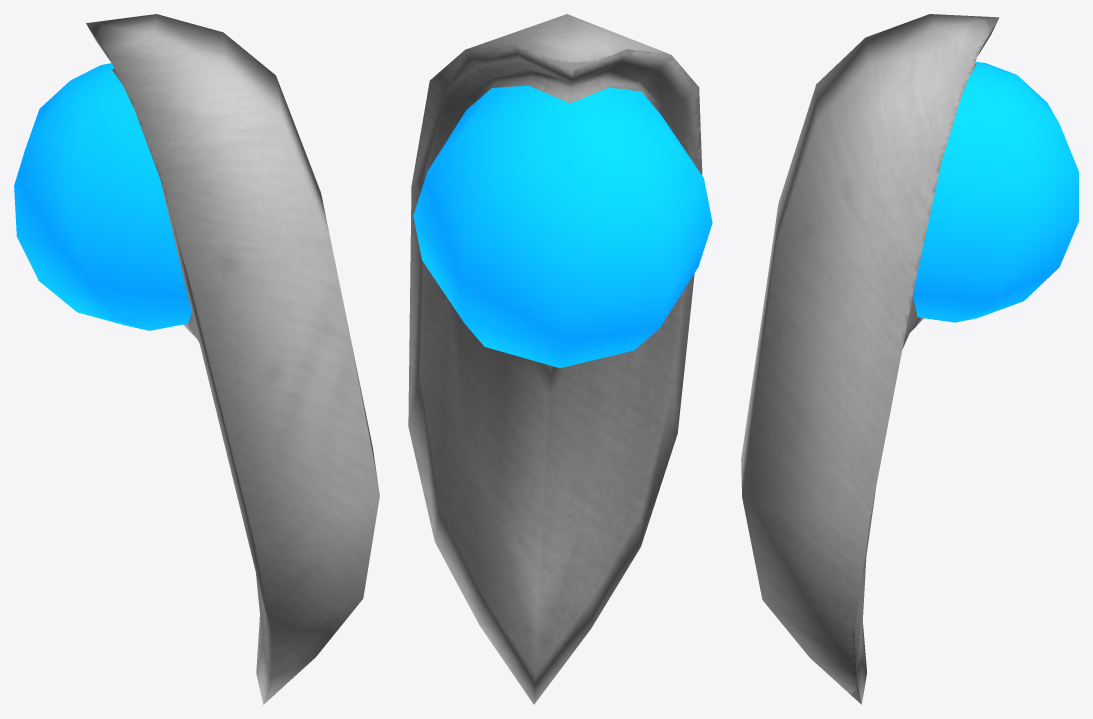
The model's file is ElipPata3.fbx.
3 renders of one model, left to right at view 1: azimuth 30°, elevation 25°; view 2: azimuth 150°, elevation 25°; view 3: azimuth 270°, elevation 25°, orthographic. The views are drawn at different scales.
Parts seen in each view (by area): view 1: Sphere.008; view 2: Sphere.008; view 3: Sphere.008.
Boxes of the visible parts, left/top/right/bottom form: Sphere.008: left=14, top=14, right=379, bottom=704; Sphere.008: left=408, top=14, right=712, bottom=704; Sphere.008: left=741, top=14, right=1078, bottom=704.
Size of the model in its own units: 2.14 by 4.53 by 2.16.
